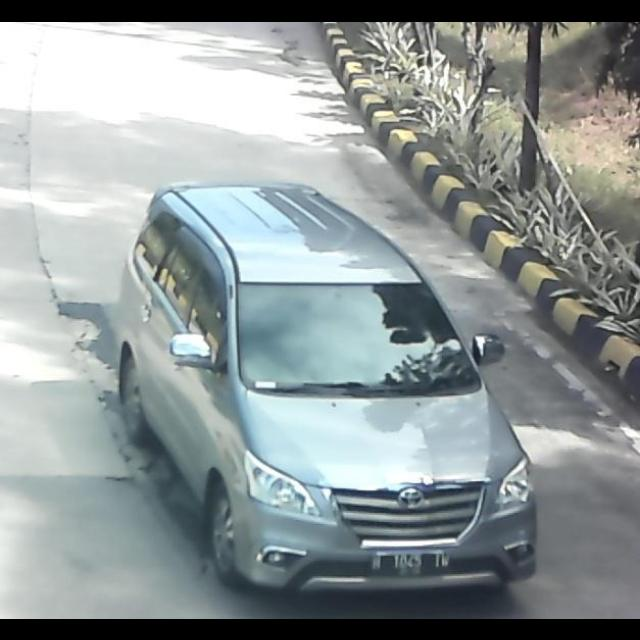plate: (368, 553, 452, 575)
